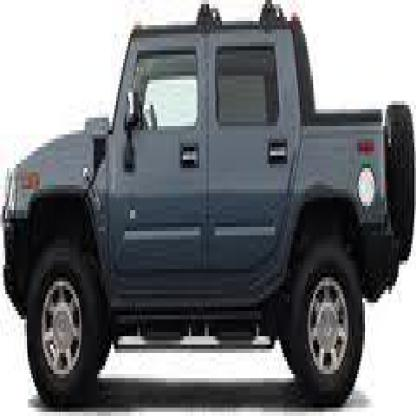Vehicle: (2, 4, 414, 412)
